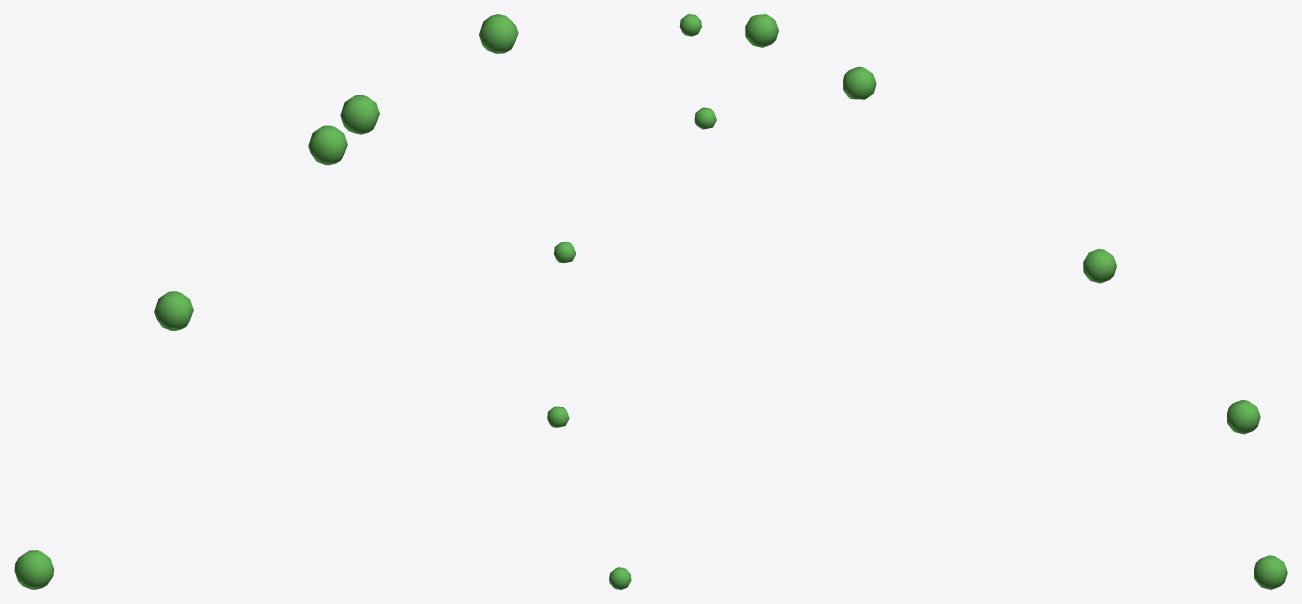
Rendered from linfatico-lateral-sacral-nodes-l.glb.
3 views of the same model, side by side, from view 1: azimuth 30°, elevation 25°; view 2: azimuth 150°, elevation 25°; view 3: azimuth 270°, elevation 25° (orthographic). The views are drawn at different scales.
Parts seen in each view (by area): view 1: Lateral sacral nodes.l; view 2: Lateral sacral nodes.l; view 3: Lateral sacral nodes.l.
Part boxes in pixels (x1,y1,x2,y2): Lateral sacral nodes.l: [14, 14, 518, 589]; Lateral sacral nodes.l: [547, 14, 716, 589]; Lateral sacral nodes.l: [745, 14, 1287, 589].
Size of the model in its own units: 0.0171 by 0.0531 by 0.0405.
